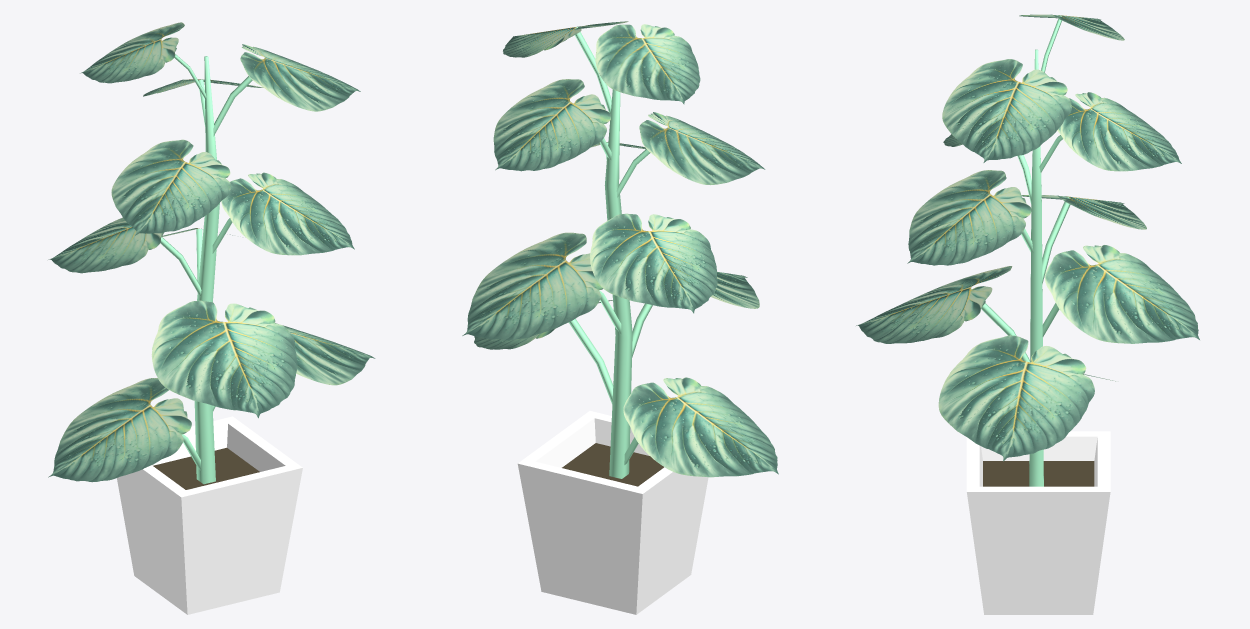
Rendered from PlantTall.glb.
3 renders of one model, left to right at view 1: azimuth 30°, elevation 25°; view 2: azimuth 150°, elevation 25°; view 3: azimuth 270°, elevation 25°, orthographic. The views are drawn at different scales.
Visible parts, largest first — view 1: PlantTall; view 2: PlantTall; view 3: PlantTall.
Boxes of the visible parts, <box> form: PlantTall: <box>48,22,375,614</box>; PlantTall: <box>462,21,778,614</box>; PlantTall: <box>856,14,1199,614</box>.
Size of what is drawn, in the model's own units: 0.9308 by 1.56 by 0.9724.
Materials: 2 (2 with a texture image).
